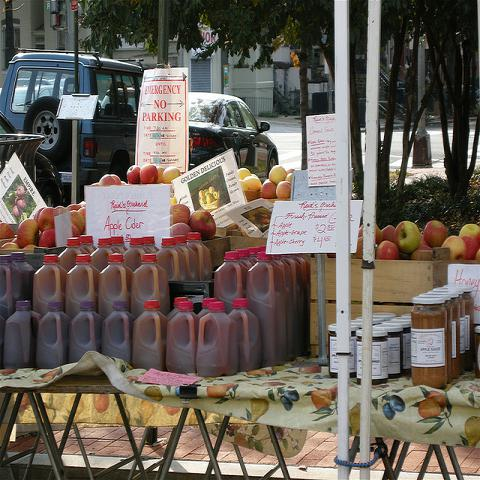car: (0, 51, 144, 198), (188, 92, 280, 178)
